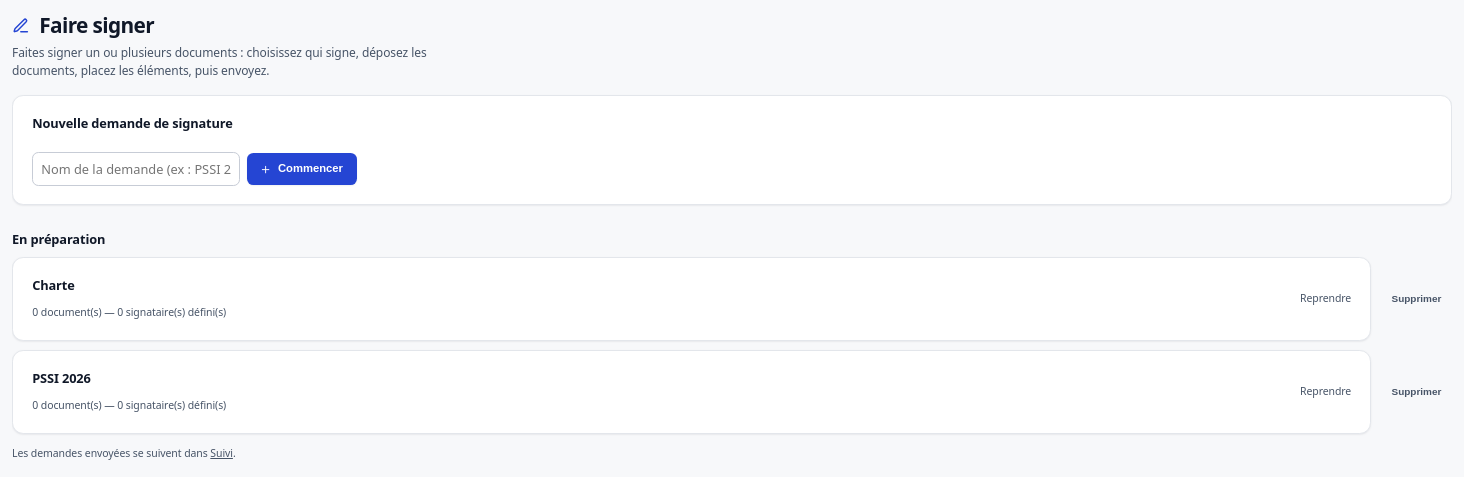
Test: SignPage — requests being prepared › deletes one of them after a second click, and keeps the other
The width and height of the screenshot is (1464, 477).
Click the button "Supprimer" in the row of "PSSI 2026". click: (1416, 392)
box: [1381,379,1452,405]
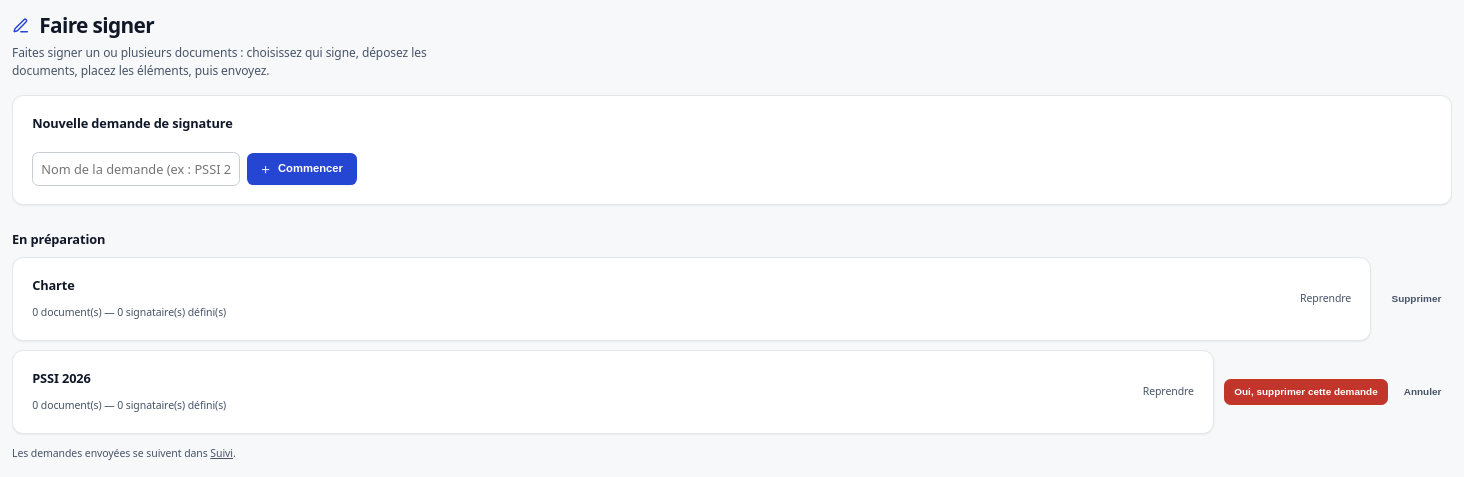
Click the button "Oui, supprimer cette demande". click: (1306, 392)
box: [1224,379,1388,405]
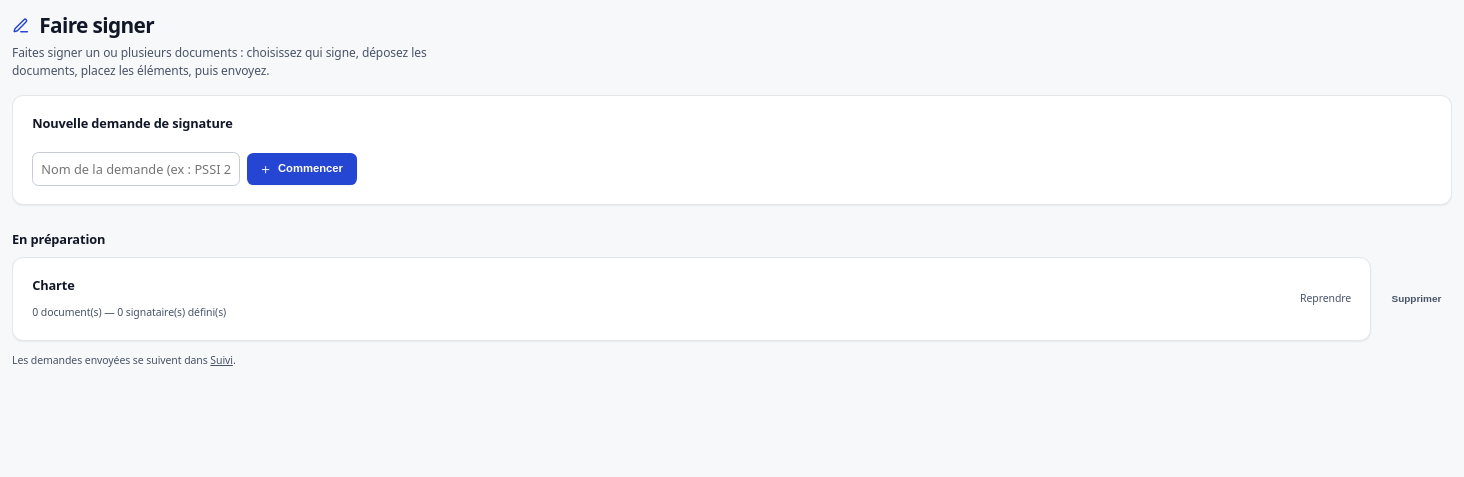
Expected: the element with test id "draft-c2" is shown, [12,257,1452,341]
Result: the element with test id "draft-c1" is gone
